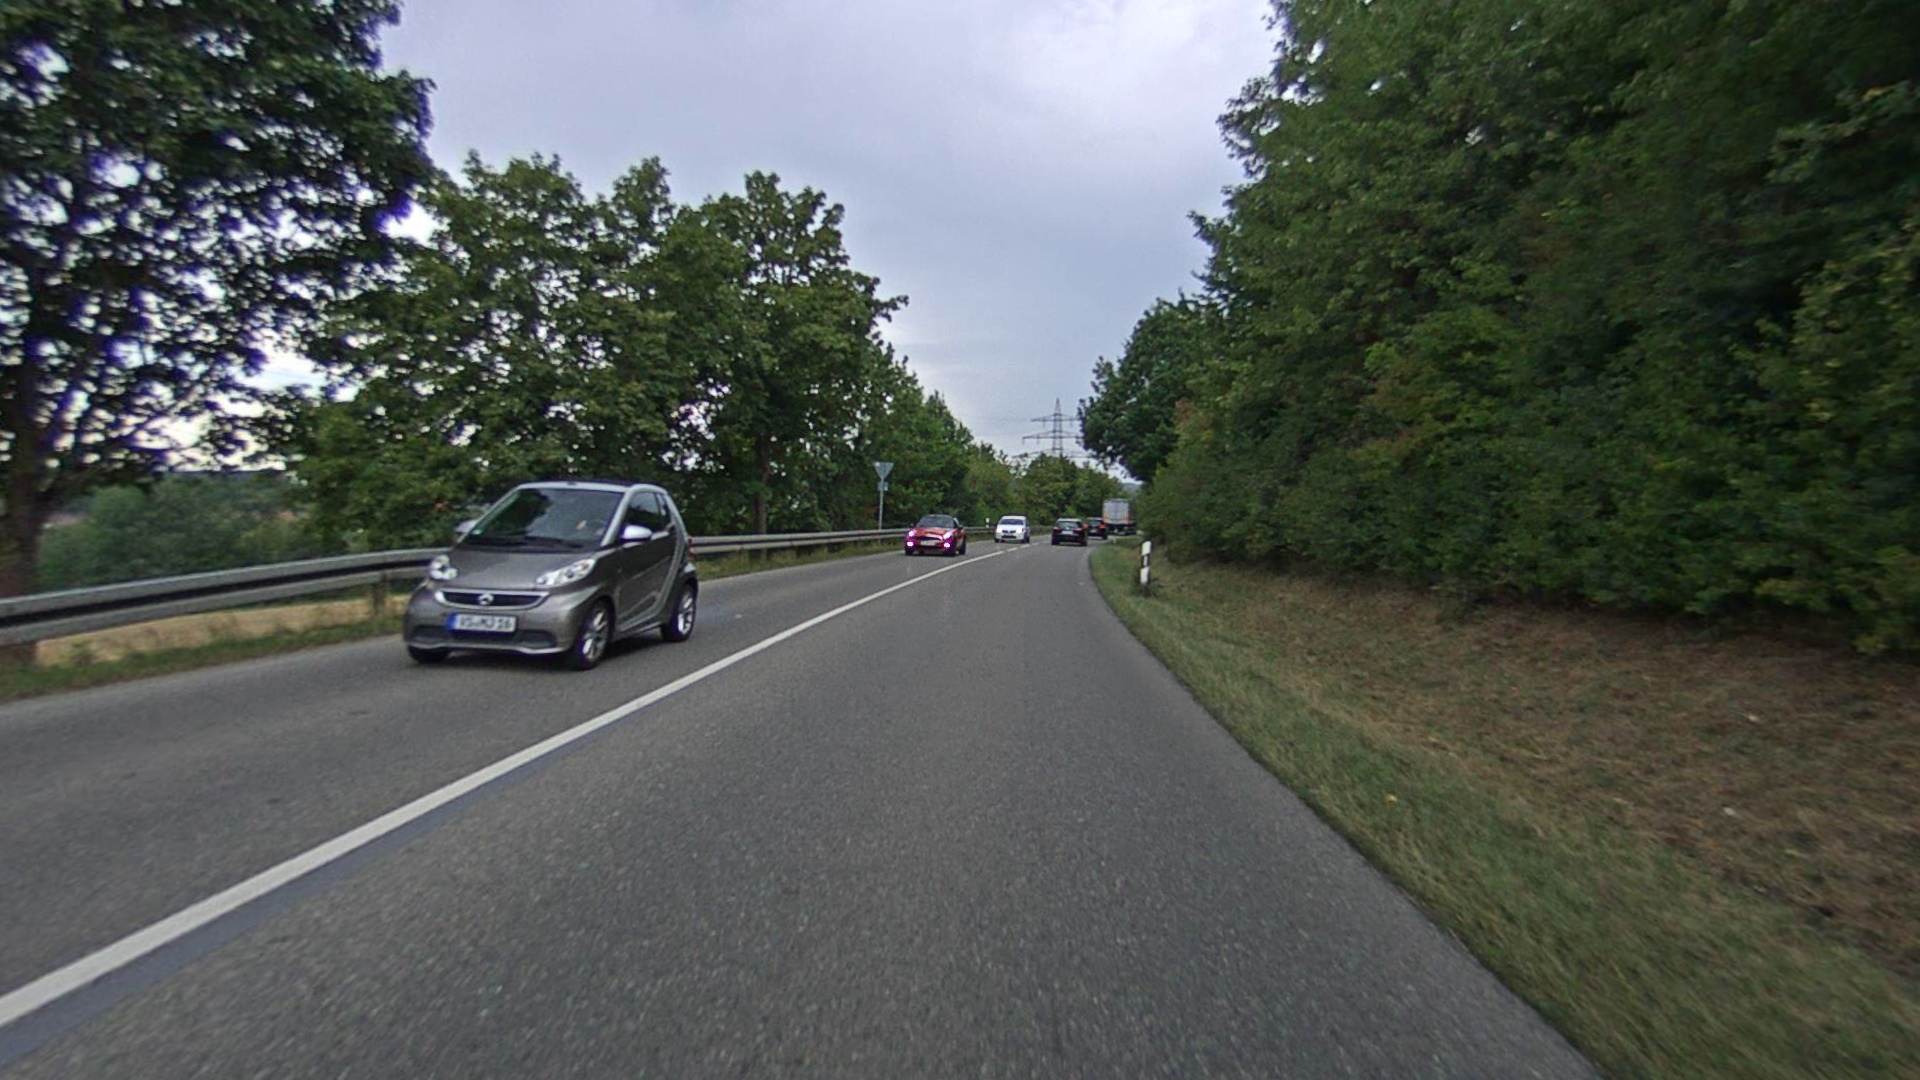car: (397, 477, 707, 676)
